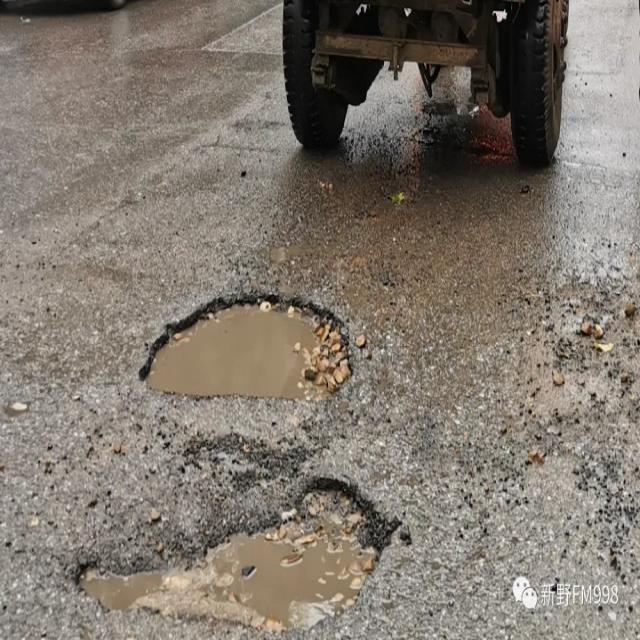Pothole: (75, 476, 386, 630), (139, 289, 352, 400)
